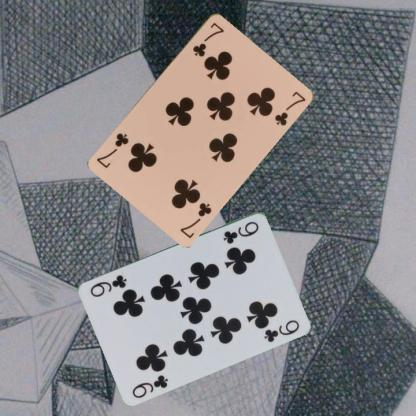7c: (178, 199, 214, 240), (190, 19, 225, 58)
9c: (129, 372, 170, 399), (220, 218, 260, 245)
